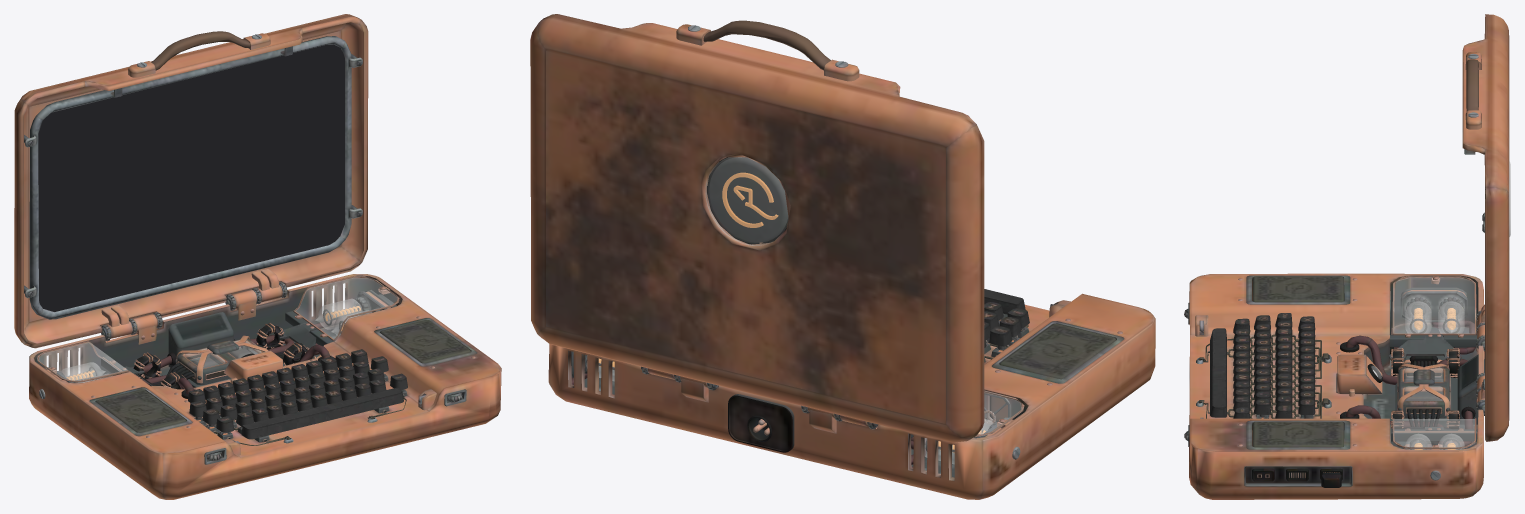
File: spark-computer.glb
3 renders of one model, left to right at view 1: azimuth 30°, elevation 25°; view 2: azimuth 150°, elevation 25°; view 3: azimuth 270°, elevation 25°, orthographic. The views are drawn at different scales.
Parts seen in each view (by area): view 1: Object_16, SparkScreen, Object_8, Object_32, Object_474; view 2: Object_16, Object_474, Object_8, Object_32, Object_416; view 3: Object_16, Object_8, Object_32, Object_474, Object_416.
Part boxes in pixels (x1,y1,x2,y2): Object_16: [14, 14, 501, 499]; SparkScreen: [38, 44, 344, 311]; Object_8: [24, 36, 471, 432]; Object_32: [188, 349, 407, 445]; Object_474: [37, 278, 397, 382]; Object_16: [530, 14, 1155, 499]; Object_474: [586, 157, 1021, 464]; Object_8: [571, 323, 1116, 467]; Object_32: [984, 289, 1029, 362]; Object_416: [598, 172, 985, 452]; Object_16: [1184, 14, 1509, 499]; Object_8: [1252, 212, 1484, 449]; Object_32: [1196, 313, 1331, 418]; Object_474: [1371, 161, 1510, 449]; Object_416: [1373, 308, 1455, 449].
Size of the model in its own units: 3.13 by 2.76 by 2.32.
Materials: 7 (6 with a texture image).
